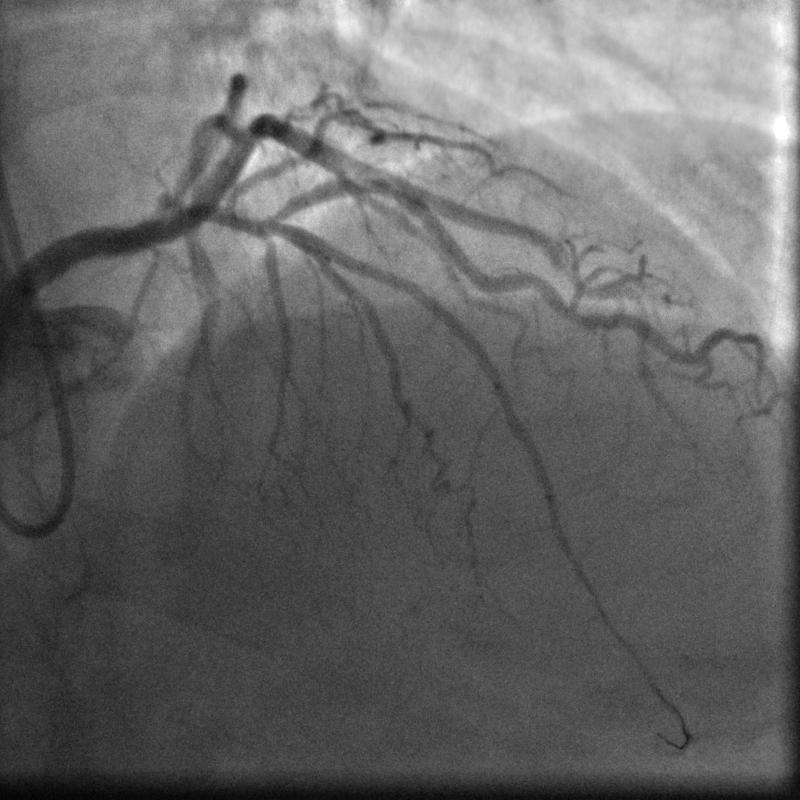Stenosis: (370, 168, 413, 203)
